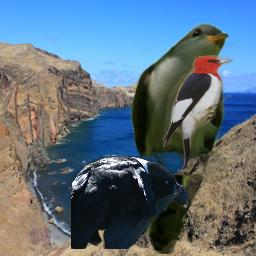Crow: (71, 156, 190, 249)
Cuckoo: (130, 23, 230, 254)
Woodpecker: (162, 55, 233, 171)
